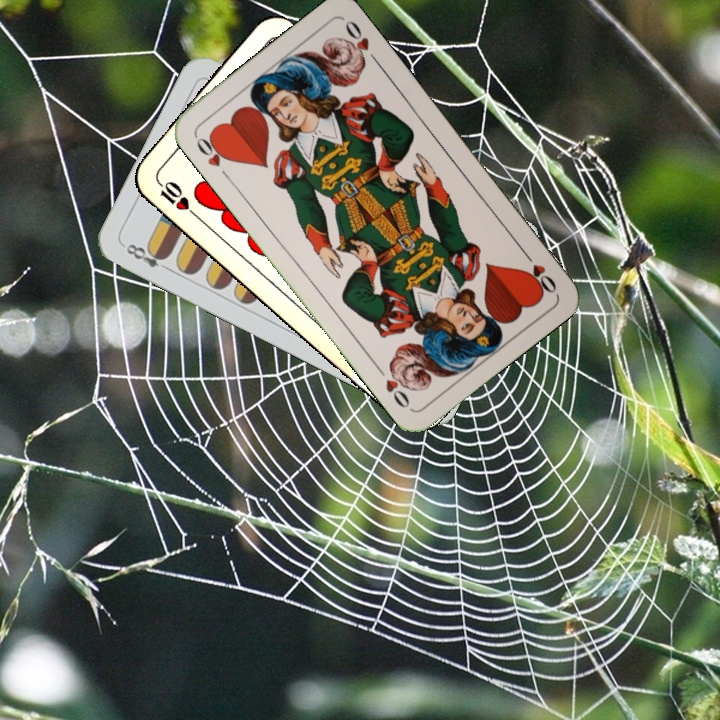E8: (122, 239, 174, 274)
H10: (152, 175, 200, 220)
HO: (191, 130, 234, 183), (518, 245, 560, 297)
